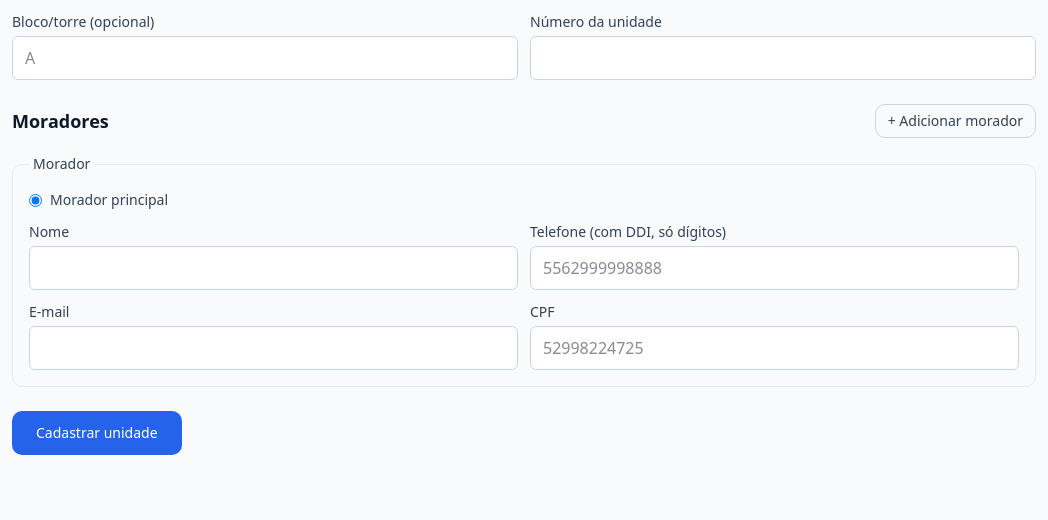
UnitForm › bloqueia o envio e mostra erros quando faltam dados do morador principal
Type "1203" into the field labelled "Número da unidade".
click(783, 58); type("1203")  # box [530,36,1036,80]
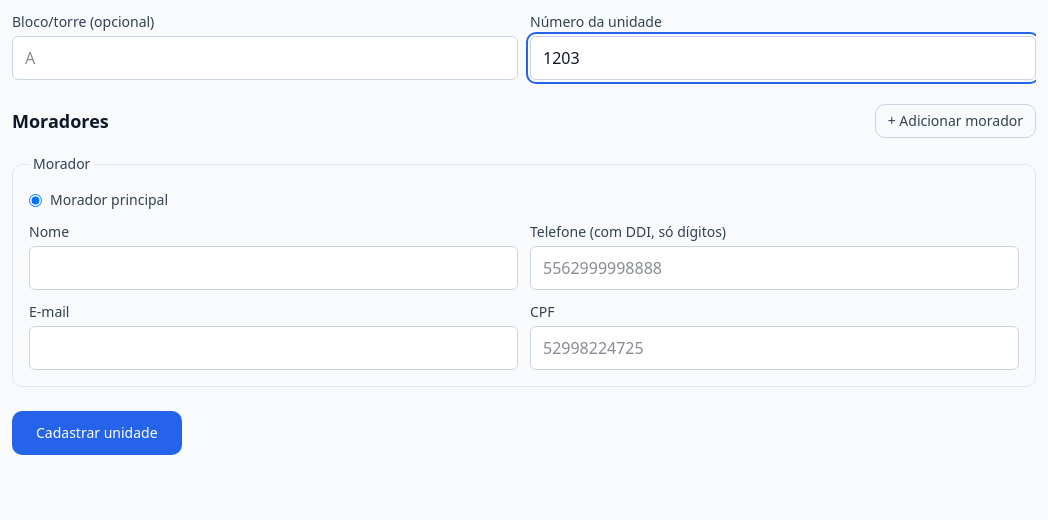
Click the button "Cadastrar unidade".
click(97, 433)  # box [12,411,182,455]
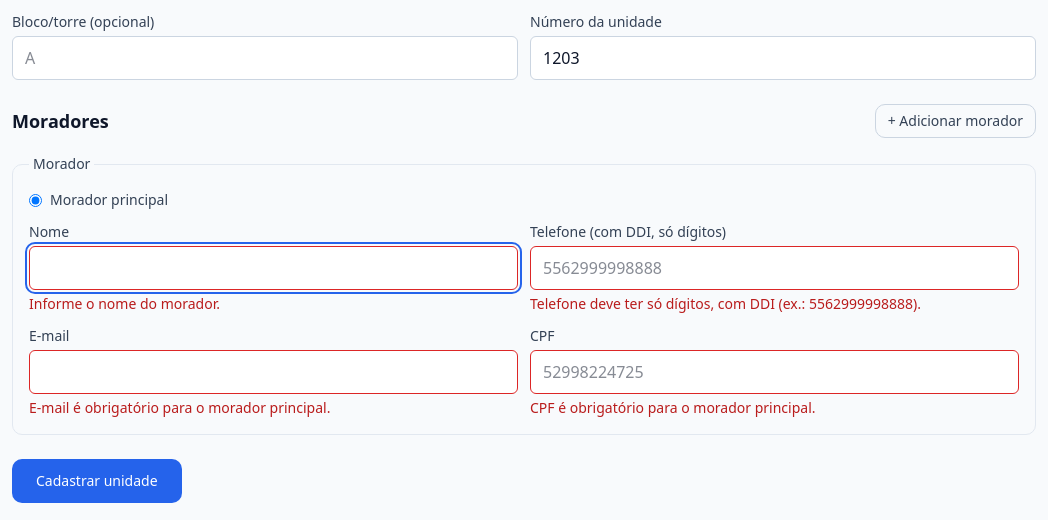
Expected: the text "Informe o nome do morador." is shown, [29,294,220,313]
